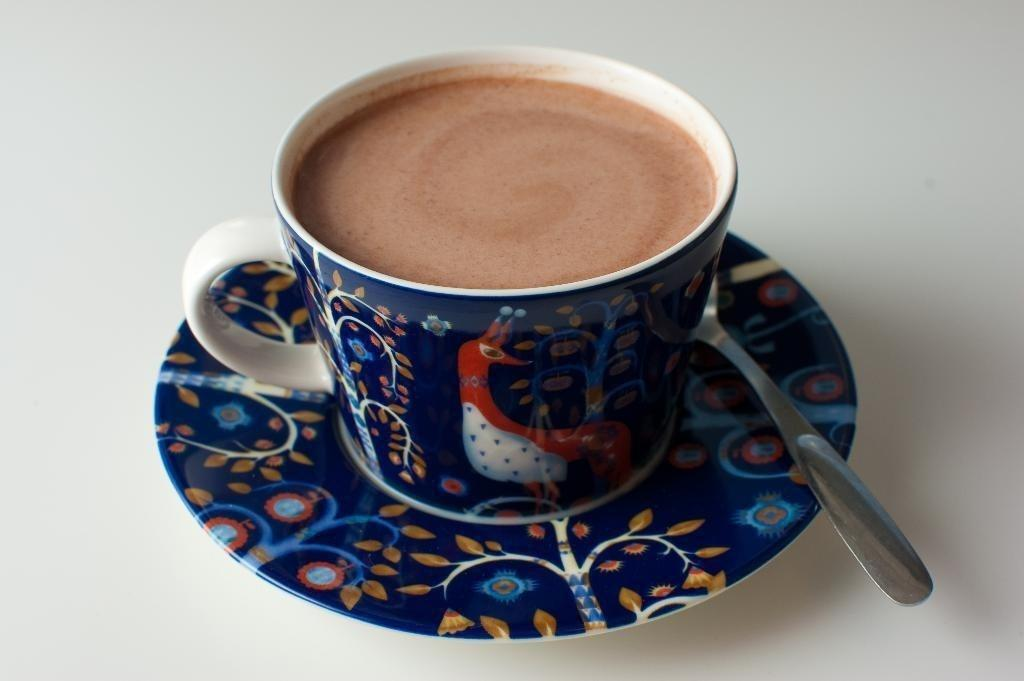cup-handle: (180, 41, 739, 519)
